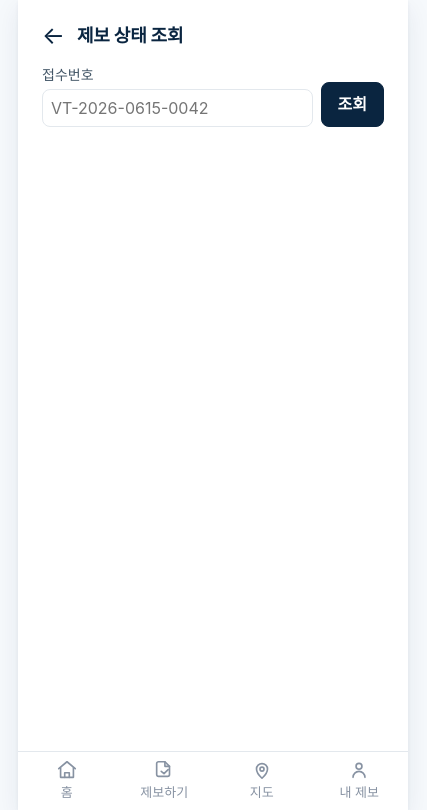
Test: TrackStatusPage(0013 상태조회) › 없는 번호(404)는 안내 메시지를 보여준다
Type "VT-2026-0615-9999" into the field labelled "접수번호" at [177, 108], box [42, 89, 312, 127]
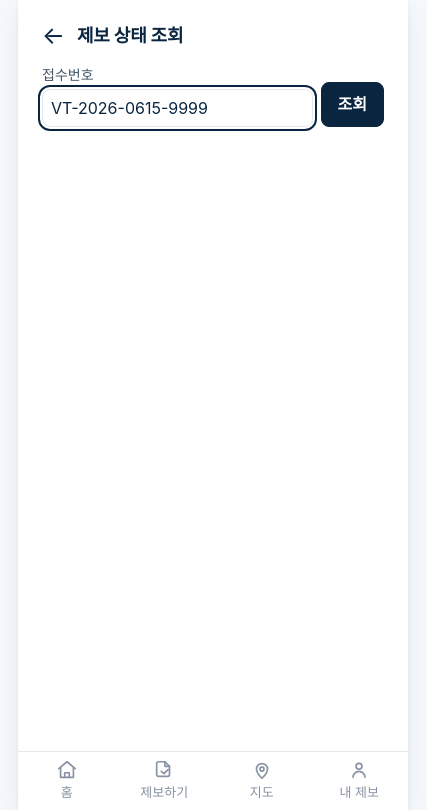
Click the button "조회" at [352, 104], box [320, 82, 384, 127]
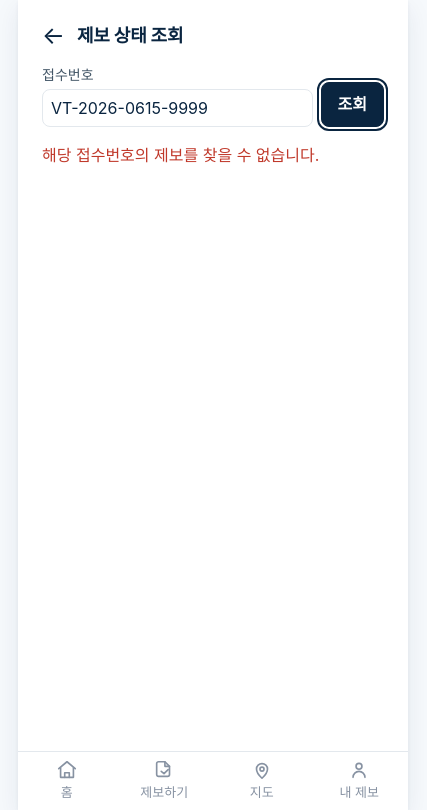
Expected: the text "해당 접수번호의 제보를 찾을 수 없습니다." is shown, [42, 145, 319, 165]
